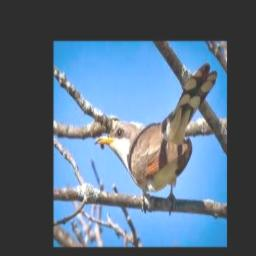Cuckoo: (94, 63, 217, 200)
